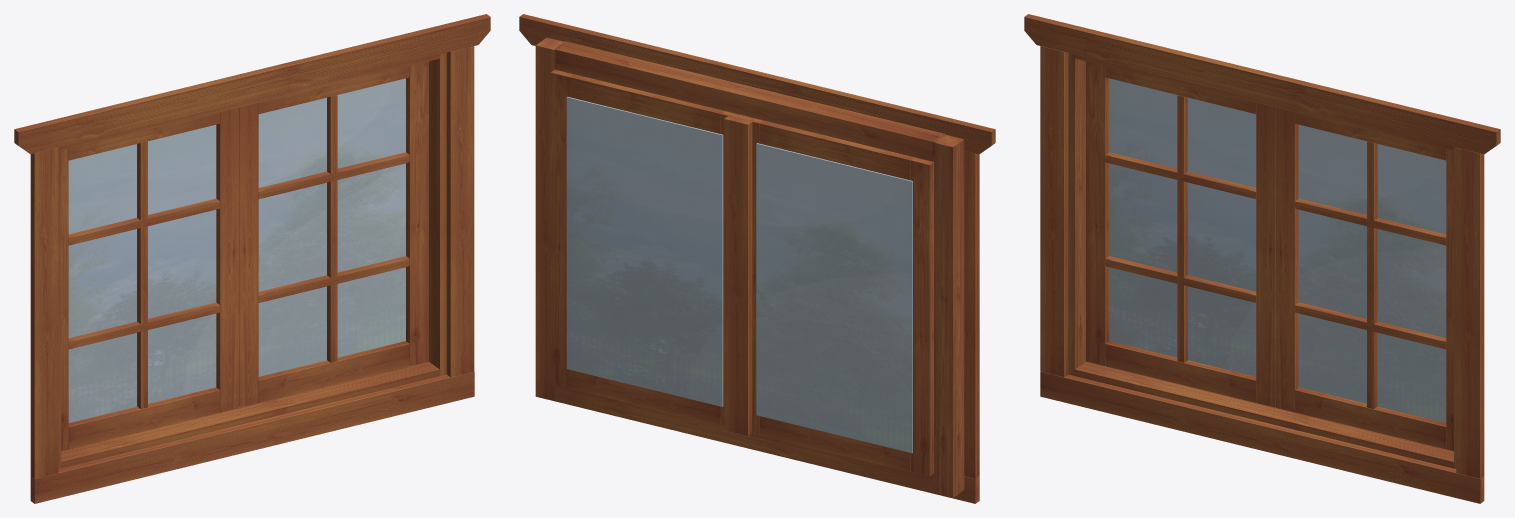
3 views of the same model, side by side, from view 1: azimuth 30°, elevation 25°; view 2: azimuth 150°, elevation 25°; view 3: azimuth 330°, elevation 25° (orthographic).
Visible parts, largest first — view 1: glass001, glass, trim_top, trim_bottom, trim_right, trim_left, window_right, box_bottom, window_left001, window_right001, box_right, window_bottom001 (+12 smaller); view 2: glass001, glass, box_top, box_left, astragal, trim_top, window_left, box_bottom, box_right, window_left001, trim_left, window_top (+6 smaller); view 3: glass, glass001, trim_top, trim_bottom, trim_right, trim_left, window_right001, box_bottom, window_left, window_right, box_left, window_bottom (+12 smaller).
Boxes of the visible parts, x1,y1,x2,y2 form: glass001: (258,78,405,376); glass: (68,124,216,422); trim_top: (14,14,490,154); trim_bottom: (30,371,474,503); trim_right: (446,46,474,377); trim_left: (30,147,58,478); window_right: (216,107,239,412); box_bottom: (61,361,440,468); window_left001: (406,61,428,365); window_right001: (239,103,258,407); box_right: (429,53,446,375); window_bottom001: (258,341,409,402); glass001: (566,96,723,406); glass: (756,143,912,453); box_top: (554,41,945,162); box_left: (934,135,964,497); astragal: (724,116,752,435); trim_top: (519,14,995,154); window_left: (911,157,933,476); box_bottom: (554,385,934,493); box_right: (535,37,564,400); window_left001: (550,69,573,388); trim_left: (964,150,979,478); window_top: (759,120,914,180); glass: (1109,78,1256,376); glass001: (1298,124,1446,422); trim_top: (1024,14,1500,154); trim_bottom: (1040,371,1484,503); trim_right: (1456,147,1484,478); trim_left: (1040,46,1068,377); window_right001: (1275,107,1298,412); box_bottom: (1074,361,1454,468); window_left: (1086,61,1108,365); window_right: (1256,103,1275,407); box_left: (1068,53,1085,375); window_bottom: (1105,341,1256,402).
Bounding box in the file's own units: 49.25 × 37.44 × 4.23.
Materials: 7 (7 with a texture image).
